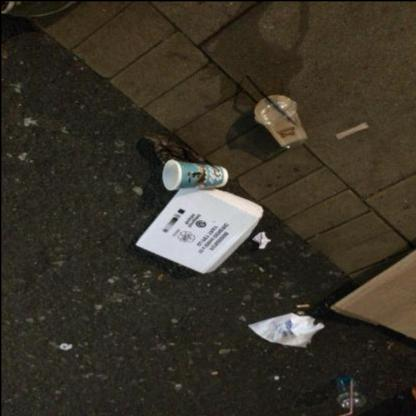Carton: (134, 186, 262, 272), (329, 247, 415, 339)
Cigarette: (295, 303, 309, 306)
Cup: (160, 158, 226, 189), (261, 108, 307, 148), (334, 373, 362, 394)
Lid: (253, 94, 296, 124), (335, 390, 364, 407)
Other litter: (247, 312, 324, 346)
Paper: (251, 231, 270, 248)
Straw: (244, 74, 291, 120), (334, 380, 352, 416)
Unlabeled litter: (335, 120, 368, 138)
